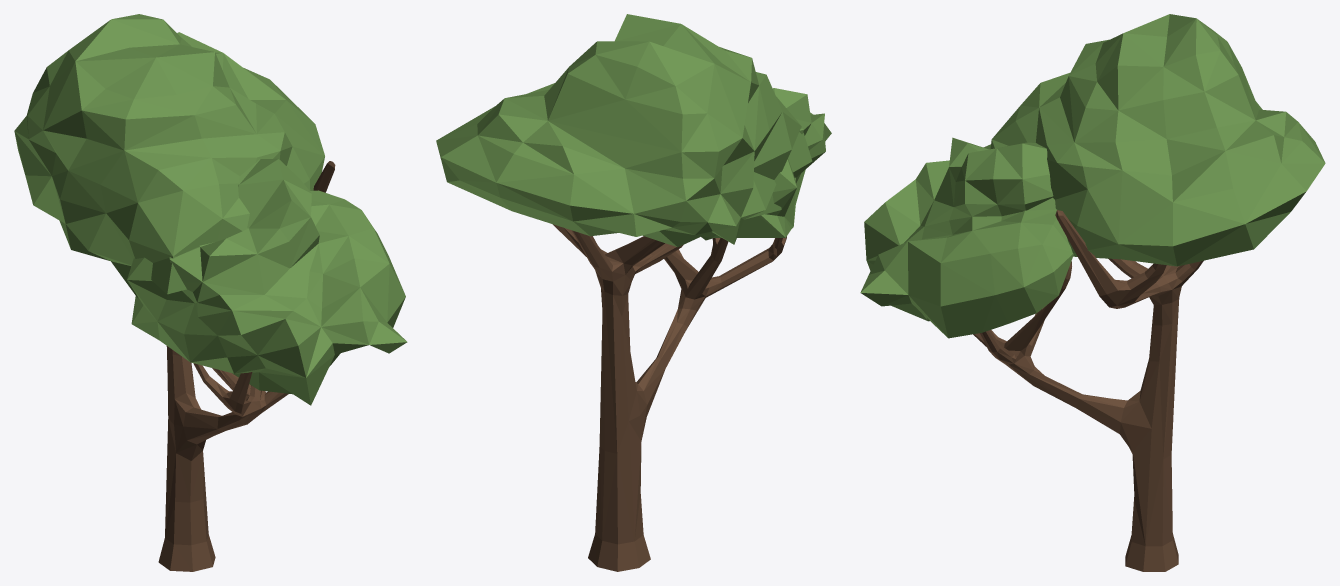
Rendered from CommonTree_2.glb.
3 views of the same model, side by side, from view 1: azimuth 30°, elevation 25°; view 2: azimuth 150°, elevation 25°; view 3: azimuth 270°, elevation 25° (orthographic). The views are drawn at different scales.
Parts seen in each view (by area): view 1: CommonTree_2; view 2: CommonTree_2; view 3: CommonTree_2.
Boxes of the visible parts, x1,y1,x2,y2 form: CommonTree_2: [14, 14, 407, 571]; CommonTree_2: [436, 14, 831, 571]; CommonTree_2: [860, 14, 1325, 571].
Size of the model in its own units: 1.66 by 3.12 by 2.54.
